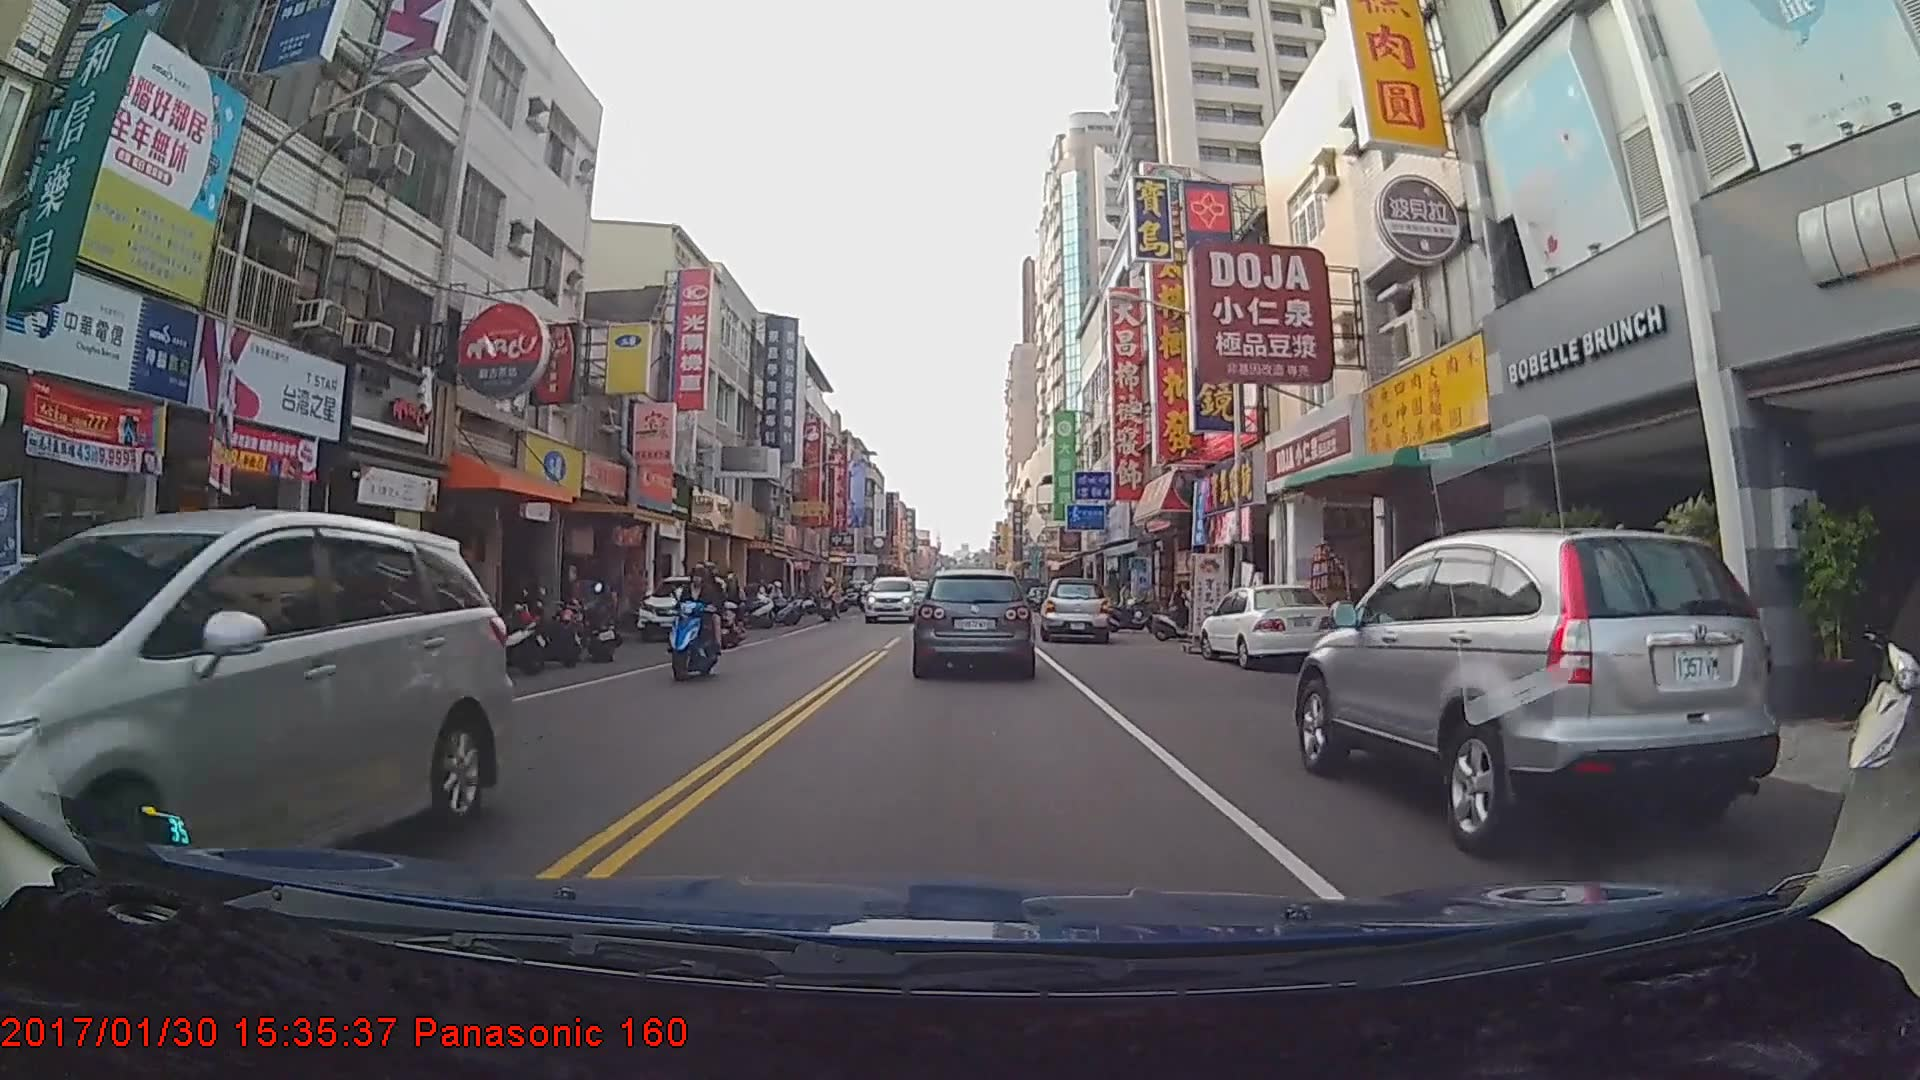rider: (662, 559, 716, 686), (1152, 581, 1209, 644)
vehicle: (0, 504, 517, 949), (1291, 527, 1779, 858), (914, 568, 1034, 675), (1195, 582, 1339, 669), (634, 573, 745, 641), (1037, 575, 1111, 643), (863, 575, 919, 623)
